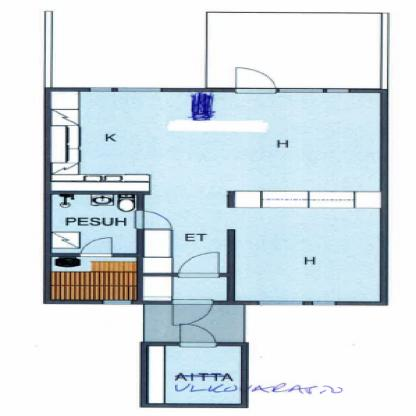door: (169, 296, 215, 326), (233, 67, 276, 97), (178, 251, 221, 279), (178, 324, 219, 348), (133, 211, 173, 232), (80, 235, 112, 257)
window: (278, 88, 323, 94), (256, 300, 300, 306), (118, 87, 162, 93), (106, 299, 130, 306), (85, 88, 113, 94), (328, 88, 348, 95), (314, 300, 335, 306)
zone: (54, 91, 383, 302), (207, 12, 381, 86), (152, 344, 240, 402), (52, 194, 136, 254), (51, 256, 137, 299), (144, 306, 241, 342), (144, 277, 226, 300)
